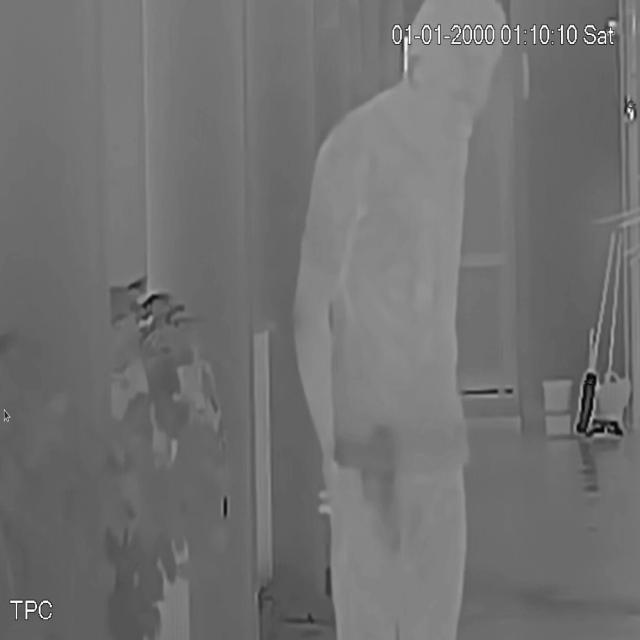Weapon: (330, 409, 433, 570)
